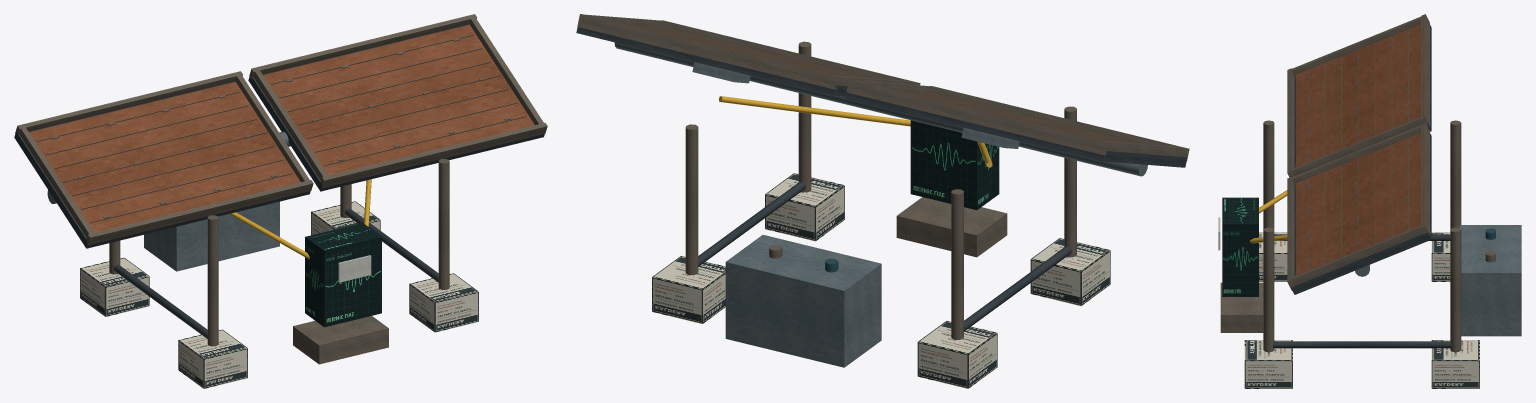
File: PZ_OffGrid_Solar_Array.glb
The picture shows the model from 3 angles, left to right: view 1: azimuth 30°, elevation 25°; view 2: azimuth 150°, elevation 25°; view 3: azimuth 270°, elevation 25°; orthographic projection. The views are drawn at different scales.
Visible parts, largest first — view 1: R_Panel_1_Photovoltaic_Layer, R_Panel_0_Photovoltaic_Layer, R_Solar_Regulator_Cabinet, R_Solar_Battery_Case, R_Solar_Regulator_Base, R_Solar_Foot_Ballast_1_-0.56, R_Solar_Foot_Ballast_0_-0.56, R_Solar_Foot_Ballast_0_0.56, R_PV_0_Horizontal_Edge_-0.44, R_PV_1_Horizontal_Edge_-0.44, R_PV_1_Horizontal_Edge_0.44, R_PV_0_Horizontal_Edge_0.44 (+13 smaller); view 2: R_Solar_Battery_Case, R_Solar_Regulator_Cabinet, R_Solar_Foot_Ballast_0_0.56, R_Solar_Regulator_Base, R_Solar_Foot_Ballast_1_0.56, R_PV_0_Horizontal_Edge_0.44, R_PV_1_Horizontal_Edge_0.44, R_Solar_Foot_Ballast_0_-0.56, R_Solar_Foot_Ballast_1_-0.56, R_Solar_Hinge_Transverse_Shaft, R_Panel_0_Aluminum_Subframe, R_Solar_Leg_1_0.56 (+14 smaller); view 3: R_Panel_0_Photovoltaic_Layer, R_Panel_1_Photovoltaic_Layer, R_Solar_Battery_Case, R_Solar_Regulator_Cabinet, R_Solar_Foot_Ballast_1_-0.56, R_Solar_Foot_Ballast_1_0.56, R_Panel_1_Aluminum_Subframe, R_Solar_Regulator_Base, R_Solar_Leg_1_0.56, R_Solar_Leg_1_-0.56, R_Solar_Base_Stabilizer_1, R_PV_1_Vertical_Edge_0.71 (+12 smaller).
Boxes of the visible parts, <box> form: R_Panel_1_Photovoltaic_Layer: <box>263,24,534,175</box>; R_Panel_0_Photovoltaic_Layer: <box>29,82,300,232</box>; R_Solar_Regulator_Cabinet: <box>305,223,381,327</box>; R_Solar_Battery_Case: <box>144,201,279,271</box>; R_Solar_Regulator_Base: <box>293,316,388,364</box>; R_Solar_Foot_Ballast_1_-0.56: <box>409,273,478,332</box>; R_Solar_Foot_Ballast_0_-0.56: <box>178,329,247,388</box>; R_Solar_Foot_Ballast_0_0.56: <box>80,257,149,316</box>; R_PV_0_Horizontal_Edge_-0.44: <box>86,180,313,245</box>; R_PV_1_Horizontal_Edge_-0.44: <box>320,122,547,188</box>; R_PV_1_Horizontal_Edge_0.44: <box>249,14,476,79</box>; R_PV_0_Horizontal_Edge_0.44: <box>15,71,242,134</box>; R_Solar_Battery_Case: <box>725,235,881,367</box>; R_Solar_Regulator_Cabinet: <box>910,120,999,210</box>; R_Solar_Foot_Ballast_0_0.56: <box>917,320,997,388</box>; R_Solar_Regulator_Base: <box>896,197,1007,257</box>; R_Solar_Foot_Ballast_1_0.56: <box>652,255,725,323</box>; R_PV_0_Horizontal_Edge_0.44: <box>846,79,1108,155</box>; R_PV_1_Horizontal_Edge_0.44: <box>577,14,839,89</box>; R_Solar_Foot_Ballast_0_-0.56: <box>1030,238,1110,306</box>; R_Solar_Foot_Ballast_1_-0.56: <box>765,173,844,241</box>; R_Solar_Hinge_Transverse_Shaft: <box>614,42,1147,176</box>; R_Panel_0_Aluminum_Subframe: <box>845,92,1187,167</box>; R_Solar_Leg_1_0.56: <box>685,124,698,275</box>; R_Panel_0_Photovoltaic_Layer: <box>1296,24,1421,166</box>; R_Panel_1_Photovoltaic_Layer: <box>1296,133,1421,275</box>; R_Solar_Battery_Case: <box>1460,225,1521,336</box>; R_Solar_Regulator_Cabinet: <box>1222,197,1258,296</box>; R_Solar_Foot_Ballast_1_-0.56: <box>1244,340,1292,388</box>; R_Solar_Foot_Ballast_1_0.56: <box>1431,340,1479,388</box>; R_Panel_1_Aluminum_Subframe: <box>1291,133,1431,294</box>; R_Solar_Regulator_Base: <box>1220,282,1263,332</box>; R_Solar_Leg_1_0.56: <box>1450,227,1461,352</box>; R_Solar_Leg_1_-0.56: <box>1263,227,1274,352</box>; R_Solar_Base_Stabilizer_1: <box>1273,341,1451,348</box>; R_PV_1_Vertical_Edge_0.71: <box>1288,223,1424,285</box>.
Size of the model in its own units: 3.01 by 1.36 by 1.82.
Materials: 1 (1 with a texture image).
